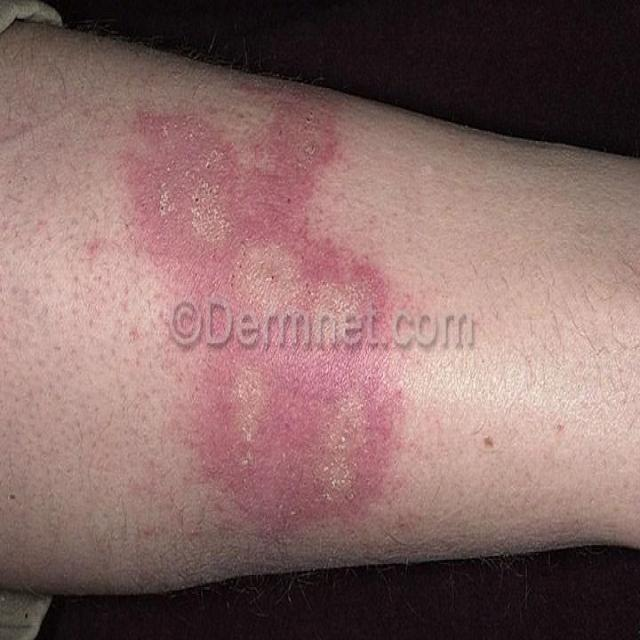Eczema: (103, 60, 405, 534)
